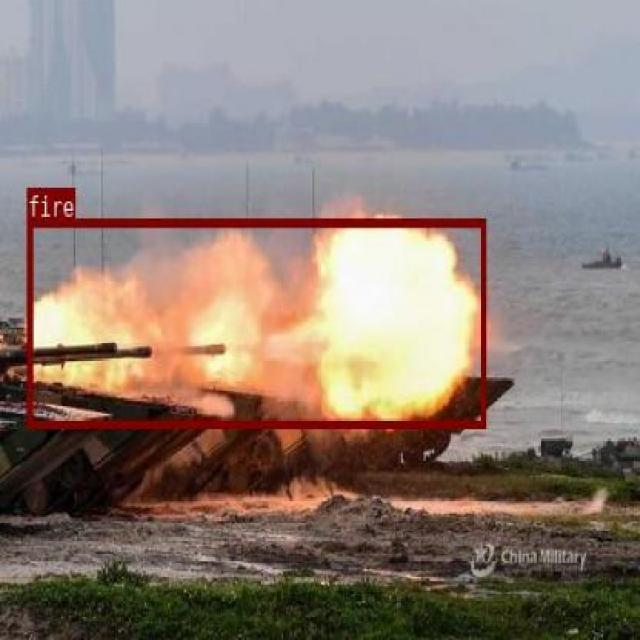Fire: (256, 209, 459, 322)
